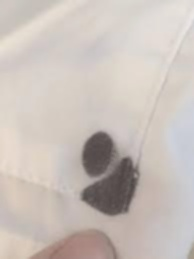ink: (81, 162, 134, 218), (82, 134, 111, 175)
